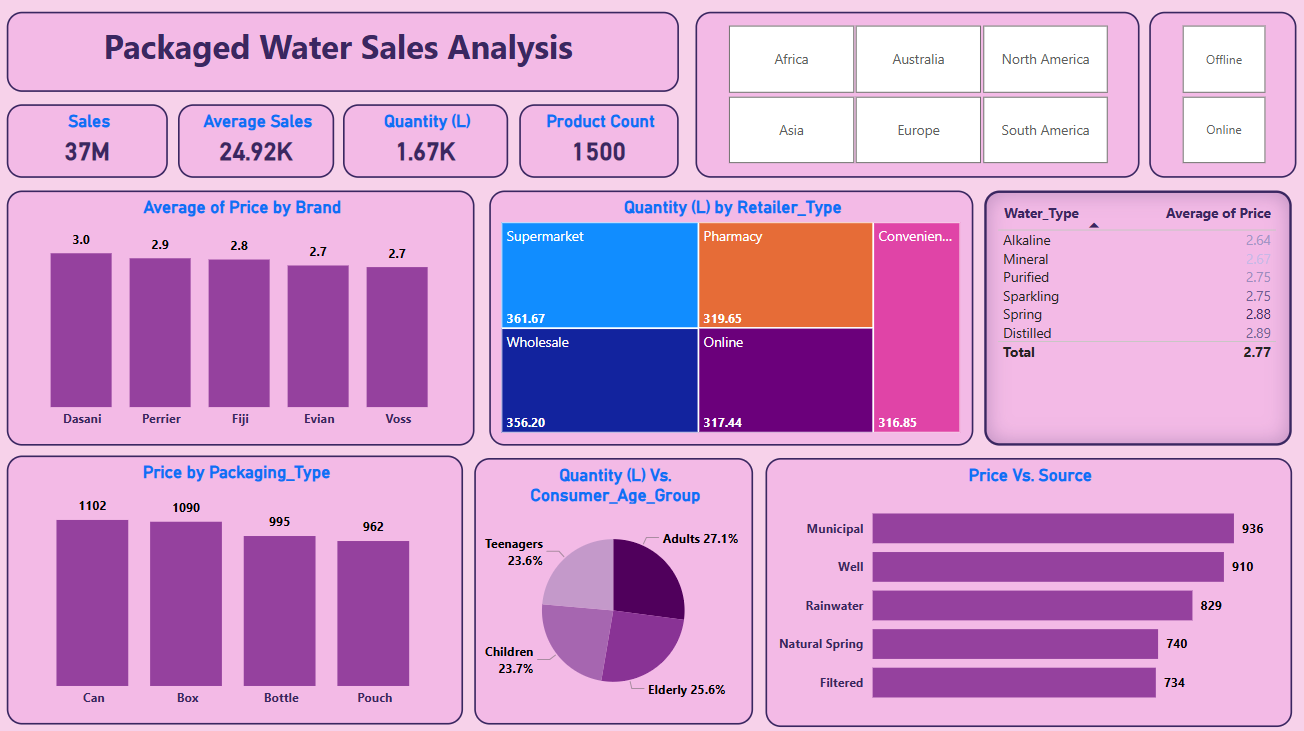

This screenshot's page, from the dashboard's own definition file:
{"tool":"powerbi","page":{"name":"Page 7","canvas":[1280,720],"ordinal":0},"visuals":[{"type":"clusteredColumnChart","fields":{"Category":["packaged water dataset.Brand"],"Y":["Avg(packaged water dataset.Price)"]},"box":[8.6,188.3,457.3,249.5],"z":0},{"type":"pieChart","title":"Quantity (L) Vs. Consumer_Age_Group","fields":{"Category":["packaged water dataset.Consumer_Age_Group"],"Y":["Sum(packaged water dataset.Quantity (L))"]},"box":[465.9,450,272.7,260.5],"z":1000},{"type":"columnChart","title":"Price by Packaging_Type","fields":{"Category":["packaged water dataset.Packaging_Type"],"Y":["Sum(packaged water dataset.Price)"]},"box":[8.6,447.6,446.3,262.9],"z":2000},{"type":"treemap","title":"Quantity (L) by Retailer_Type","fields":{"Group":["packaged water dataset.Retailer_Type"],"Values":["Sum(packaged water dataset.Quantity (L))"]},"box":[480.6,188.3,473.2,249.5],"z":3000},{"type":"clusteredBarChart","title":"Price Vs. Source","fields":{"Category":["packaged water dataset.Source"],"Y":["Sum(packaged water dataset.Price)"]},"box":[750.8,450,514.8,262.9],"z":4000},{"type":"tableEx","fields":{"Values":["packaged water dataset.Water_Type","Avg(packaged water dataset.Price)"]},"box":[964.8,188.3,300.8,249.5],"z":5000},{"type":"textbox","box":[8.6,13.5,657.9,78.3],"z":6000},{"type":"card","title":"Sales","fields":{"Values":["Sum(packaged water dataset.Annual_Sales)"]},"box":[8.6,103.9,157.7,72.1],"z":7000},{"type":"card","title":"Product Count","fields":{"Values":["CountNonNull(packaged water dataset.Product_ID)"]},"box":[510.3,103.8,155.6,72.4],"z":8000},{"type":"card","title":"Average Sales","fields":{"Values":["Avg(packaged water dataset.Annual_Sales)"]},"box":[176.1,103.9,152.9,72.1],"z":9000},{"type":"card","title":"Quantity (L)","fields":{"Values":["Sum(packaged water dataset.Quantity (L))"]},"box":[337.5,103.9,161.4,72.1],"z":10000},{"type":"slicer","fields":{"Values":["packaged water dataset.Consume_Region"]},"box":[682.3,13.5,434.1,162.6],"z":11000},{"type":"slicer","fields":{"Values":["packaged water dataset.Sales_Channel"]},"box":[1126.2,13.5,144.3,162.6],"z":12000}]}

Visuals, with their boxes in screenshot pixels (x1, y1, x2, y2), scaled from the page's 1280x720 canvas onto the 1304x731 screenshot:
clusteredColumnChart - packaged water dataset.Brand x Avg(packaged water dataset.Price): x1=9, y1=191, x2=475, y2=444
"Quantity (L) Vs. Consumer_Age_Group" pieChart: x1=475, y1=457, x2=752, y2=721
"Price by Packaging_Type" columnChart: x1=9, y1=454, x2=463, y2=721
"Quantity (L) by Retailer_Type" treemap: x1=490, y1=191, x2=972, y2=444
"Price Vs. Source" clusteredBarChart: x1=765, y1=457, x2=1289, y2=724
tableEx - packaged water dataset.Water_Type x Avg(packaged water dataset.Price): x1=983, y1=191, x2=1289, y2=444
textbox: x1=9, y1=14, x2=679, y2=93
"Sales" card: x1=9, y1=105, x2=169, y2=179
"Product Count" card: x1=520, y1=105, x2=678, y2=179
"Average Sales" card: x1=179, y1=105, x2=335, y2=179
"Quantity (L)" card: x1=344, y1=105, x2=508, y2=179
slicer - packaged water dataset.Consume_Region: x1=695, y1=14, x2=1137, y2=179
slicer - packaged water dataset.Sales_Channel: x1=1147, y1=14, x2=1294, y2=179
